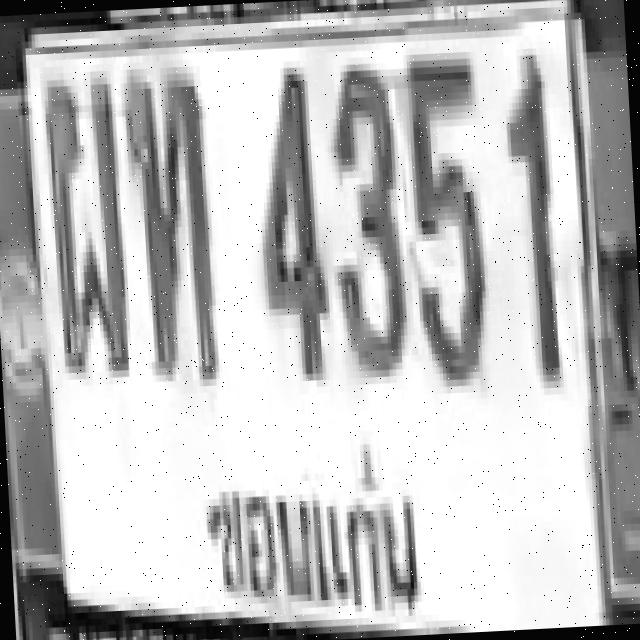1: (498, 52, 559, 380)
3: (324, 55, 408, 372)
32ThorThaHan: (123, 72, 220, 382)
37PhorPhueng: (41, 74, 130, 377)
4: (250, 60, 330, 376)
5: (402, 52, 488, 382)
KhonKaen: (191, 428, 445, 633)
